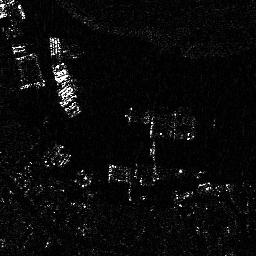ship: (149, 127, 198, 143)
